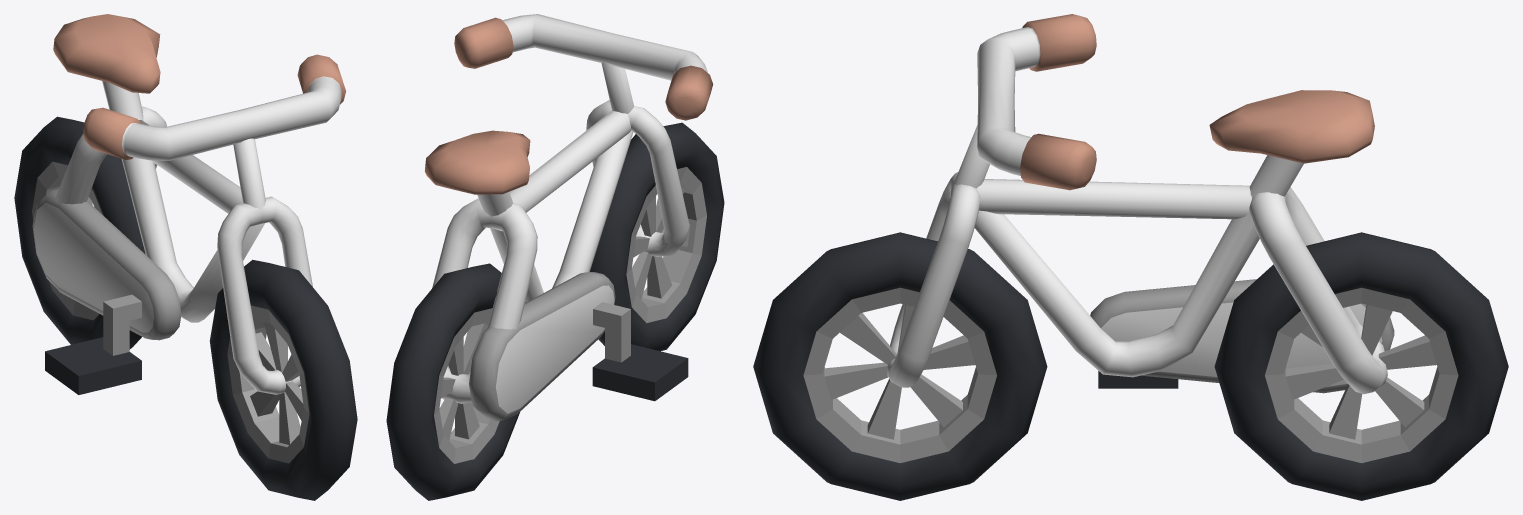
The model's file is Bicycle.fbx.
3 views of the same model, side by side, from view 1: azimuth 30°, elevation 25°; view 2: azimuth 150°, elevation 25°; view 3: azimuth 270°, elevation 25° (orthographic). The views are drawn at different scales.
Visible parts, largest first — view 1: Bicycle, Wheel.Front, Wheel_Back, Pedal_Step, Pedal; view 2: Bicycle, Wheel_Back, Wheel.Front, Pedal_Step, Pedal; view 3: Bicycle, Wheel.Front, Wheel_Back, Pedal_Step.
Boxes of the visible parts, x1,y1,x2,y2 form: Bicycle: (32,14,346,394); Wheel.Front: (209,259,357,500); Wheel_Back: (14,116,145,349); Pedal_Step: (45,337,141,394); Pedal: (103,294,141,355); Bicycle: (425,14,713,421); Wheel_Back: (386,263,525,500); Wheel.Front: (590,122,724,351); Pedal_Step: (592,344,688,401); Pedal: (593,302,630,362); Bicycle: (887,14,1394,394); Wheel.Front: (753,232,1047,500); Wheel_Back: (1214,232,1508,500); Pedal_Step: (1098,371,1178,388).
Size of the model in its own units: 2.93 by 3.94 by 6.42.
